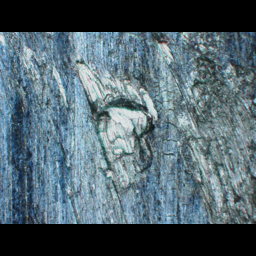d: (70, 56, 166, 189)
